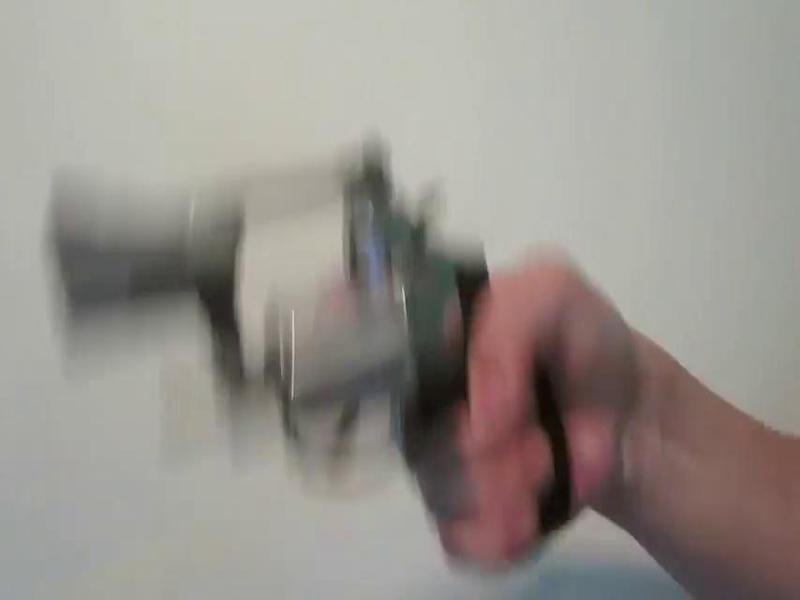Revolver: (57, 123, 624, 541)
